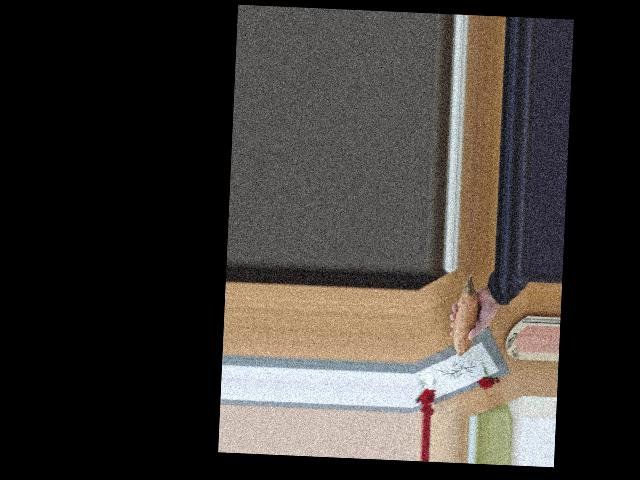sweet_potato: (449, 281, 486, 358)
